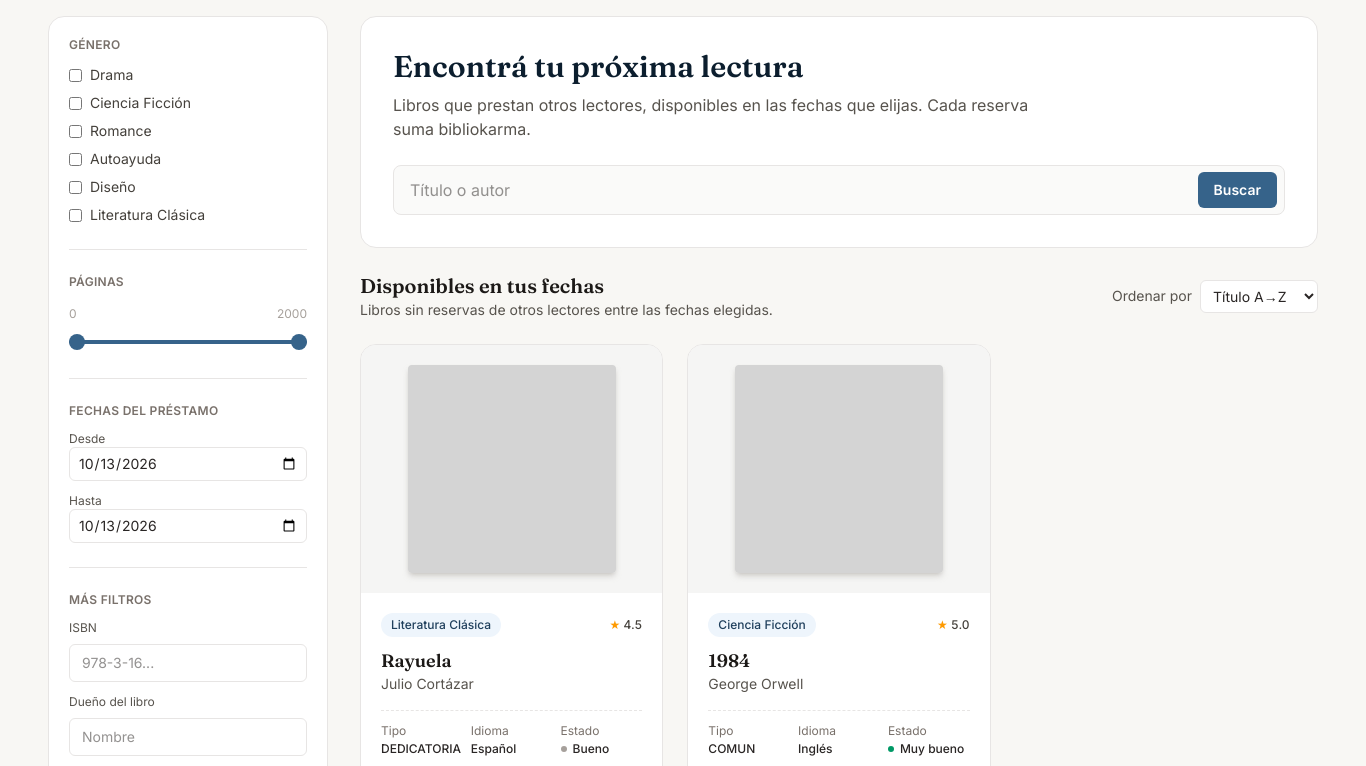
Scenario: Home › limpia los filtros y restablece la busqueda
The image size is (1366, 766).
In the search field with test id "input-busqueda": (839, 190) [393, 165, 1285, 215], type "1984"
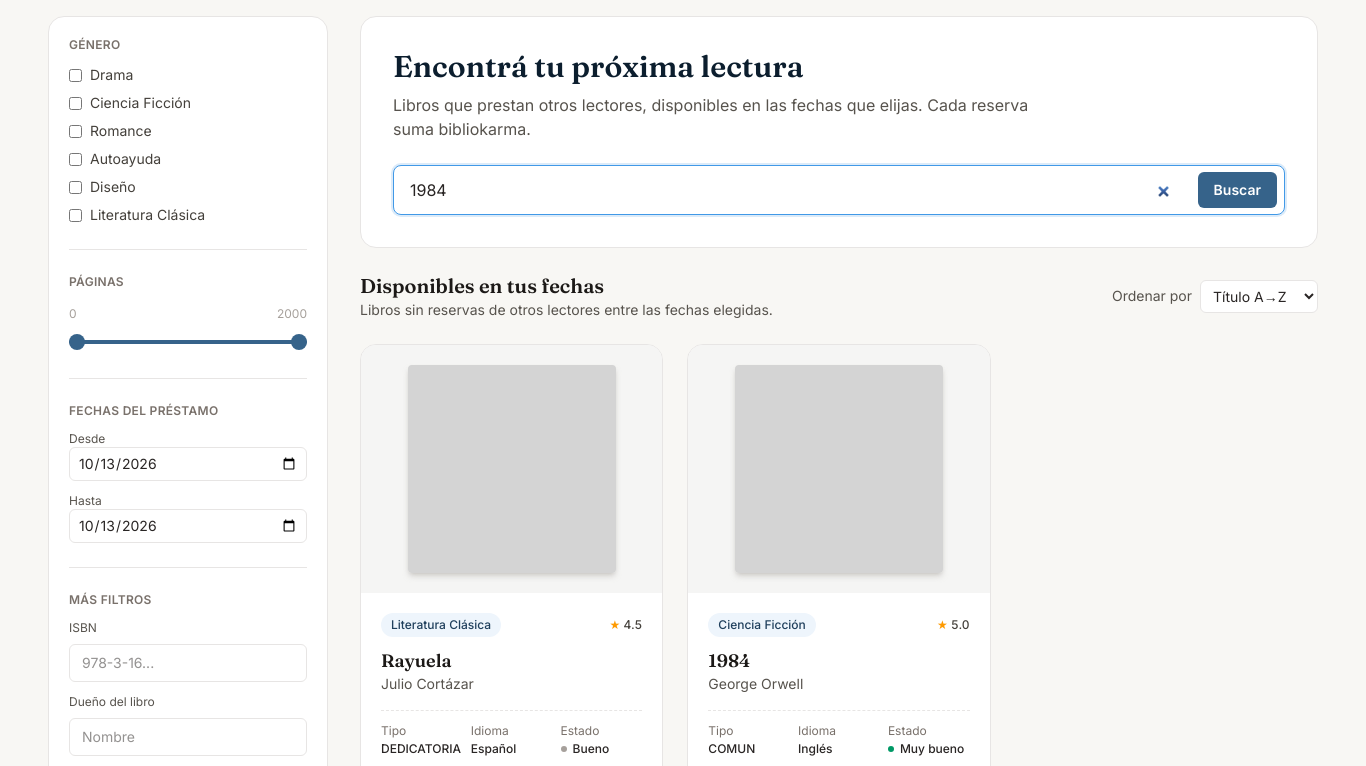
Click the button with test id "btn-buscar": (1237, 190) [1198, 172, 1277, 208]
(page scrolled)
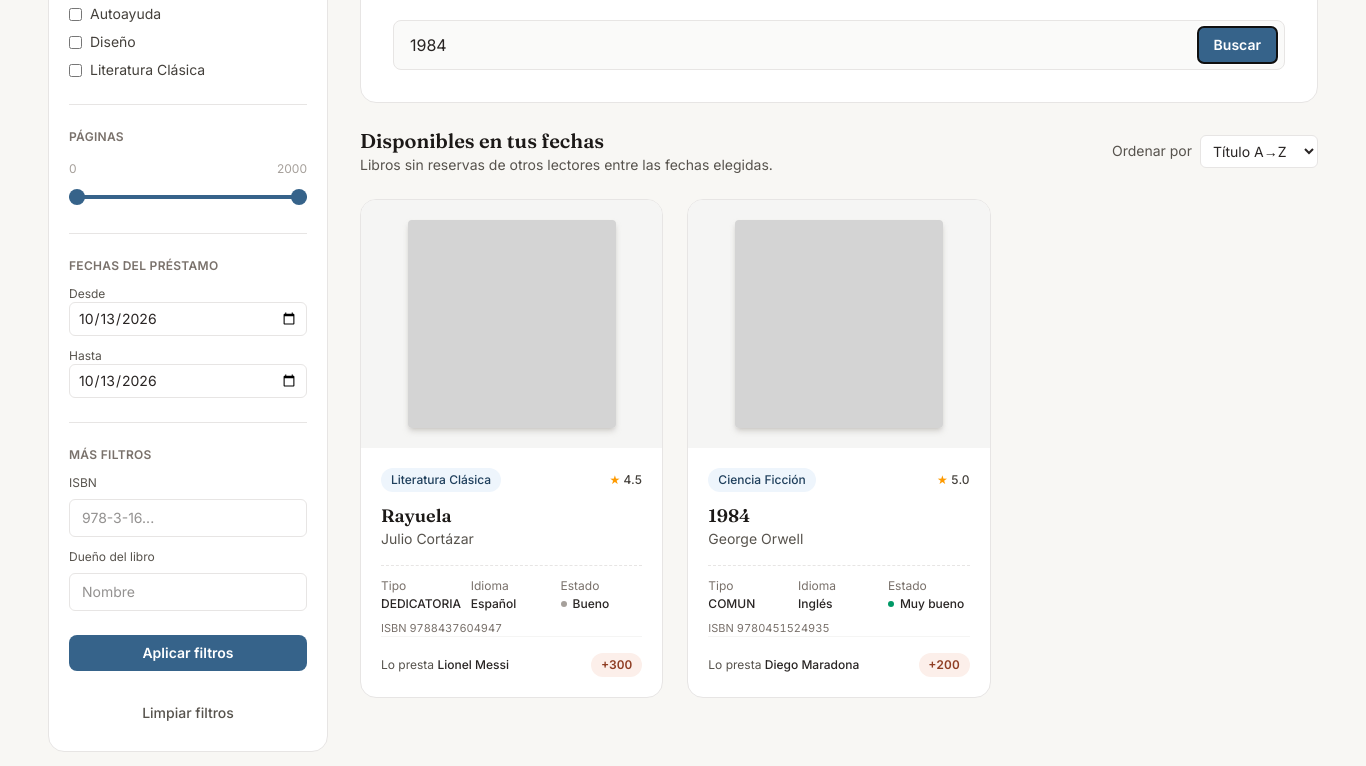
Click the button with test id "btn-limpiar": (188, 713) [69, 695, 307, 731]
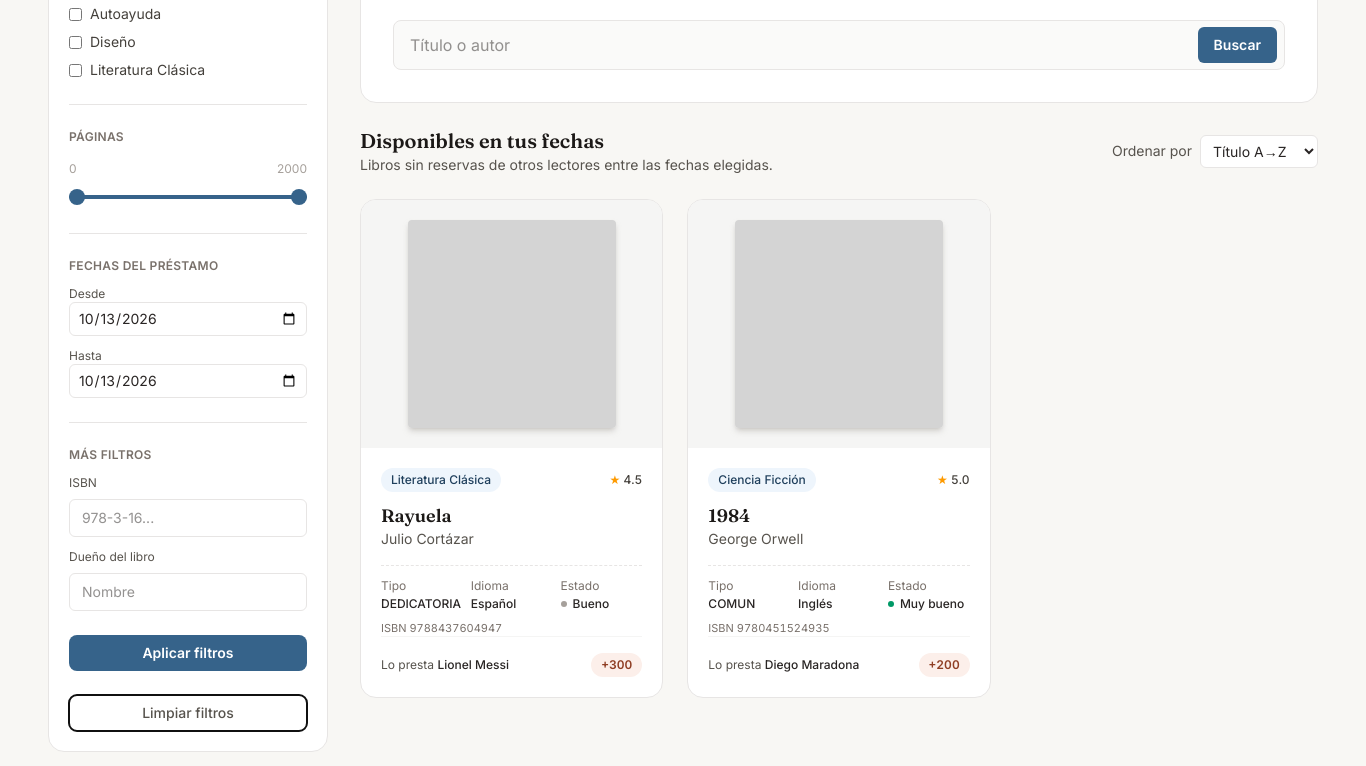
Check: the search field with test id "input-busqueda" is empty, box [393, 20, 1285, 70]
